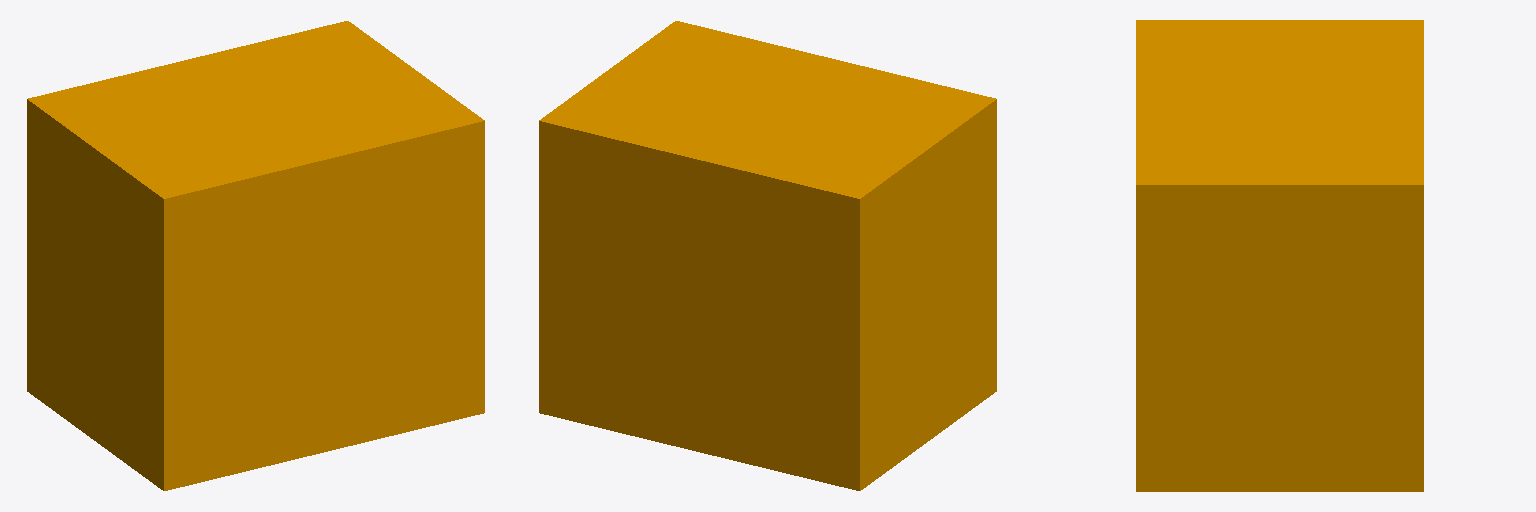
robot.urdf — object:
<robot name="object">
  <link name="object">
    <visual>
      <origin xyz="0 0 0" />
      <geometry>
        <box size="0.09200000000000003 0.068 0.08" />
      </geometry>
    </visual>

    <collision>
      <origin xyz="0 0 0" />
      <geometry>
        <box size="0.09200000000000003 0.068 0.08" />
      </geometry>
    </collision>

    <inertial>
      <mass value="0.05" />
      <inertia ixx="0.0001" ixy="0.0" ixz="0.0" iyy="0.0001" iyz="0.0" izz="0.0001" />
    </inertial>
  </link>
</robot>

--- What the picture shows (computed from the rendered views, not written in the file) ---
The picture shows the robot from 3 angles, left to right: view 1: azimuth 30°, elevation 25°; view 2: azimuth 150°, elevation 25°; view 3: azimuth 270°, elevation 25°; orthographic projection.
Model object with 1 links and 0 joints (none), rooted at object, posed every joint at zero.
Links seen in each view (by area): view 1: object; view 2: object; view 3: object.
Link boxes in pixels (box(x1,y1,x2,y2)): object: box(27, 21, 484, 490); object: box(539, 21, 996, 490); object: box(1136, 20, 1423, 491).
Size in the robot's own frame: 0.092 by 0.068 by 0.08 metres.
Geometry: primitives only (box / cylinder / sphere), no mesh files.